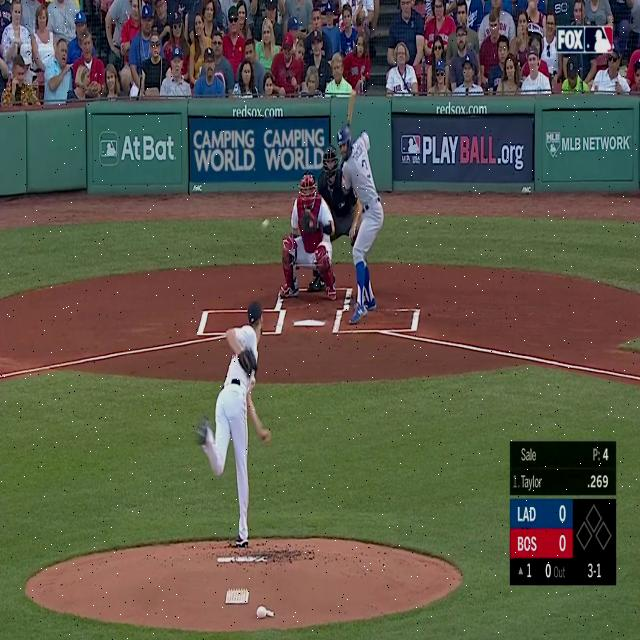baseball: (262, 217, 270, 229)
